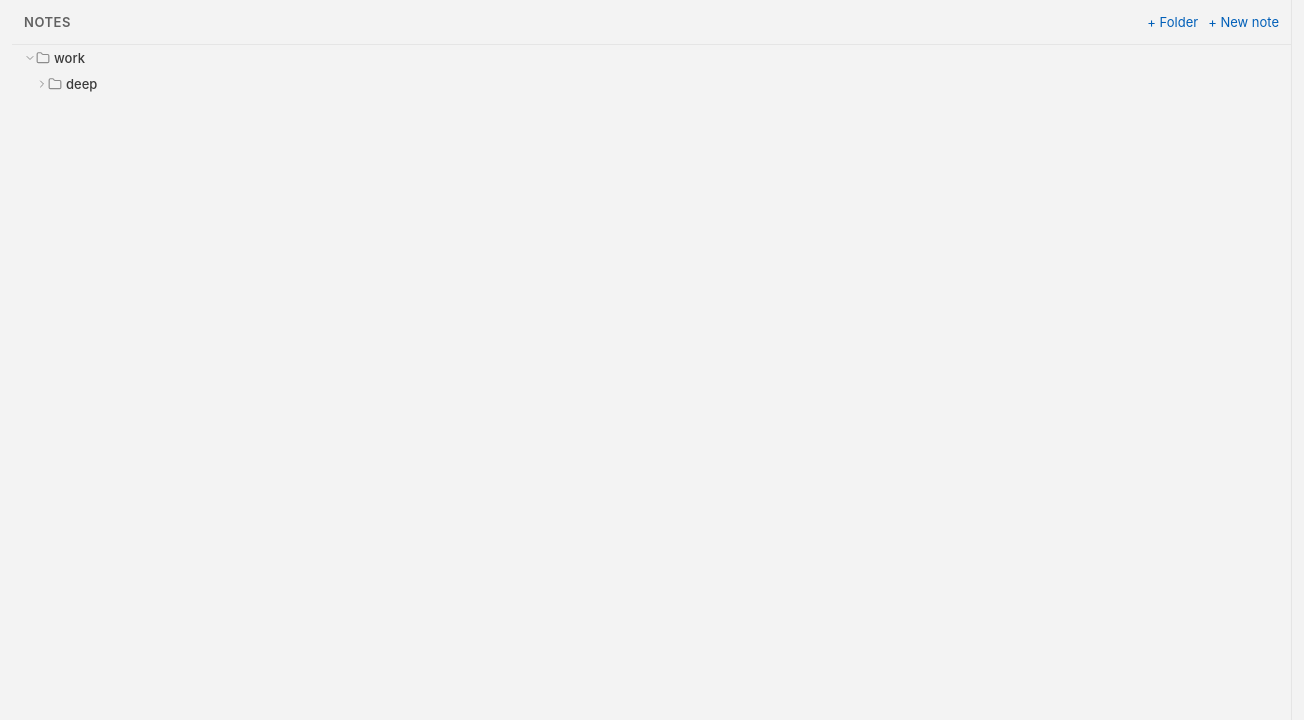
NotesListPanel tree virtualization › keeps expansion across refreshes
Click the list item with test id "notes-folder-notes/work/deep". click: (82, 84)
box: [12, 71, 1291, 97]
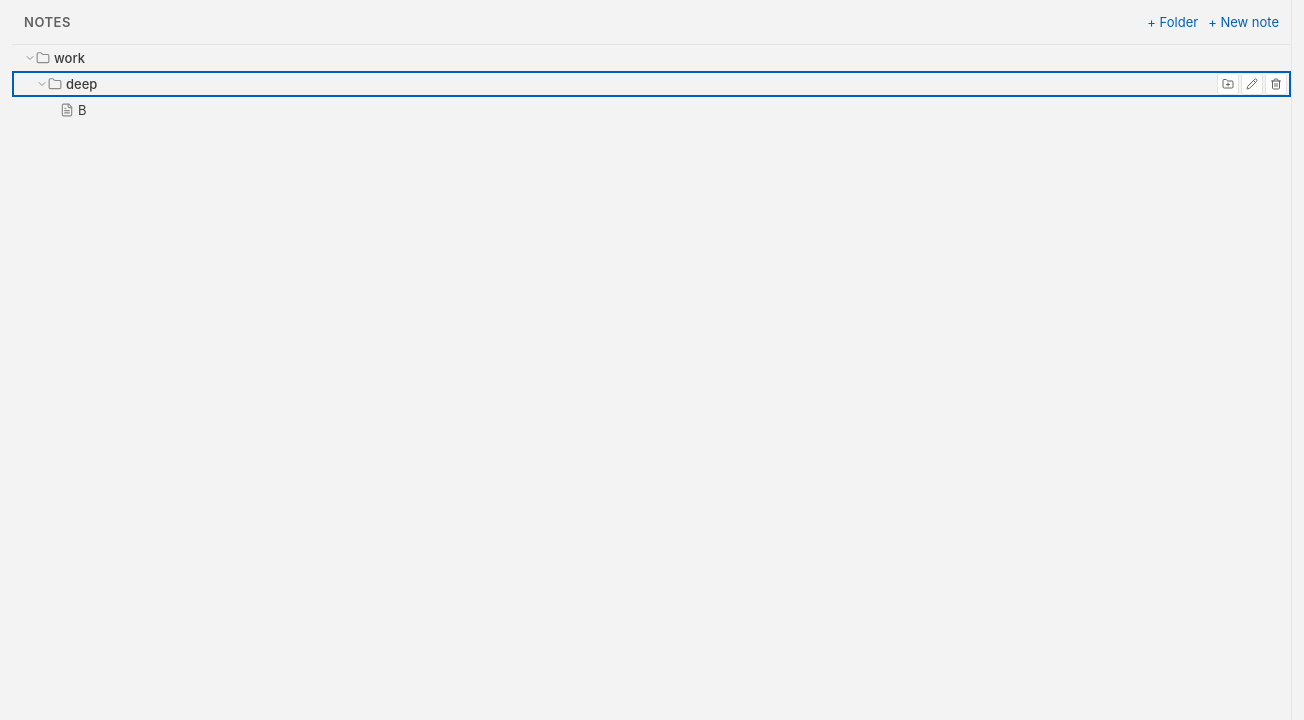
Now the text "B" is shown, box [78, 102, 86, 118]
